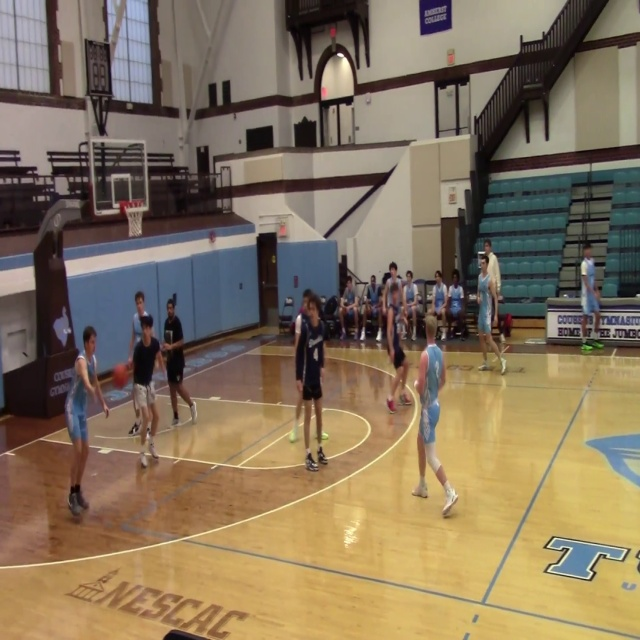Basketball: (418, 344, 445, 393), (113, 363, 129, 388), (320, 431, 329, 441)
